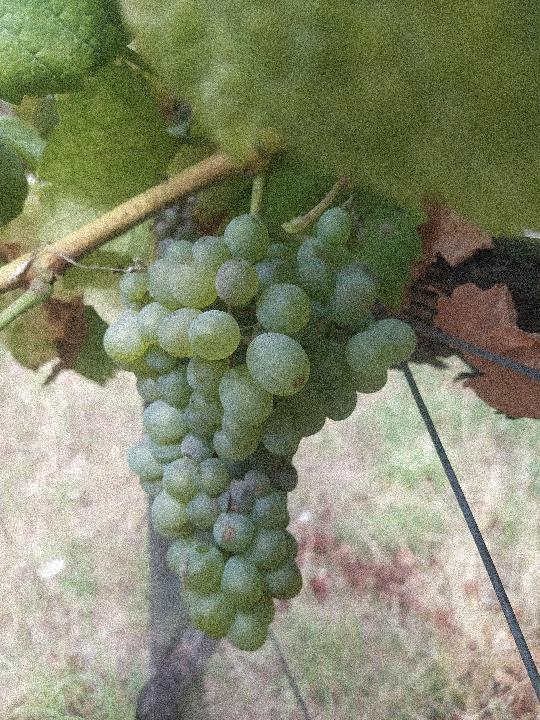grape: (103, 206, 418, 656)
